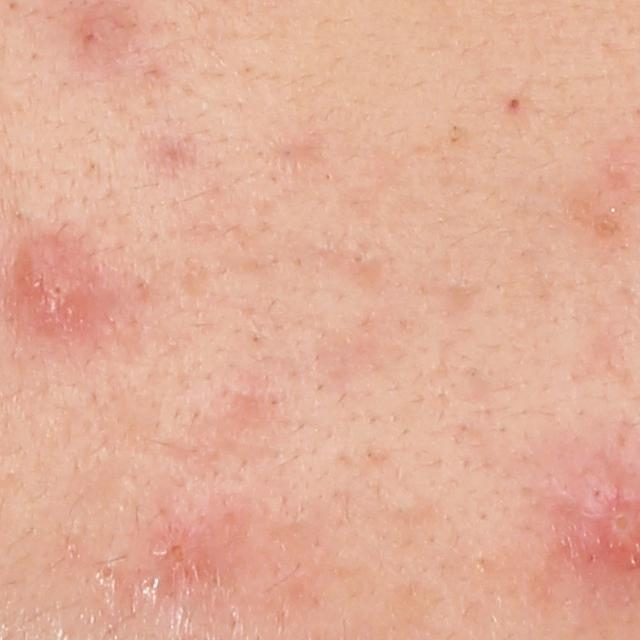comedo: (349, 243, 370, 270)
papule: (20, 238, 93, 331), (155, 529, 202, 580)
